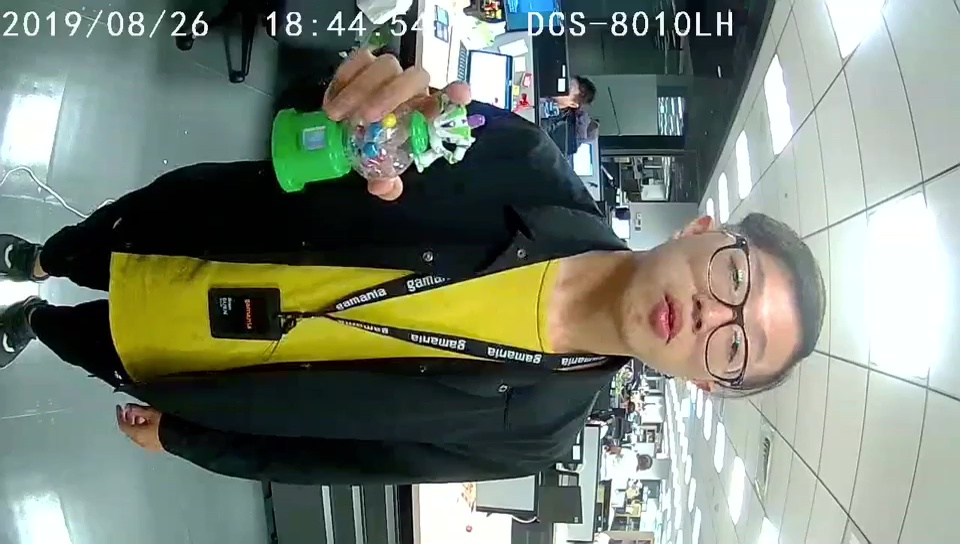buzz: (268, 94, 486, 199)
